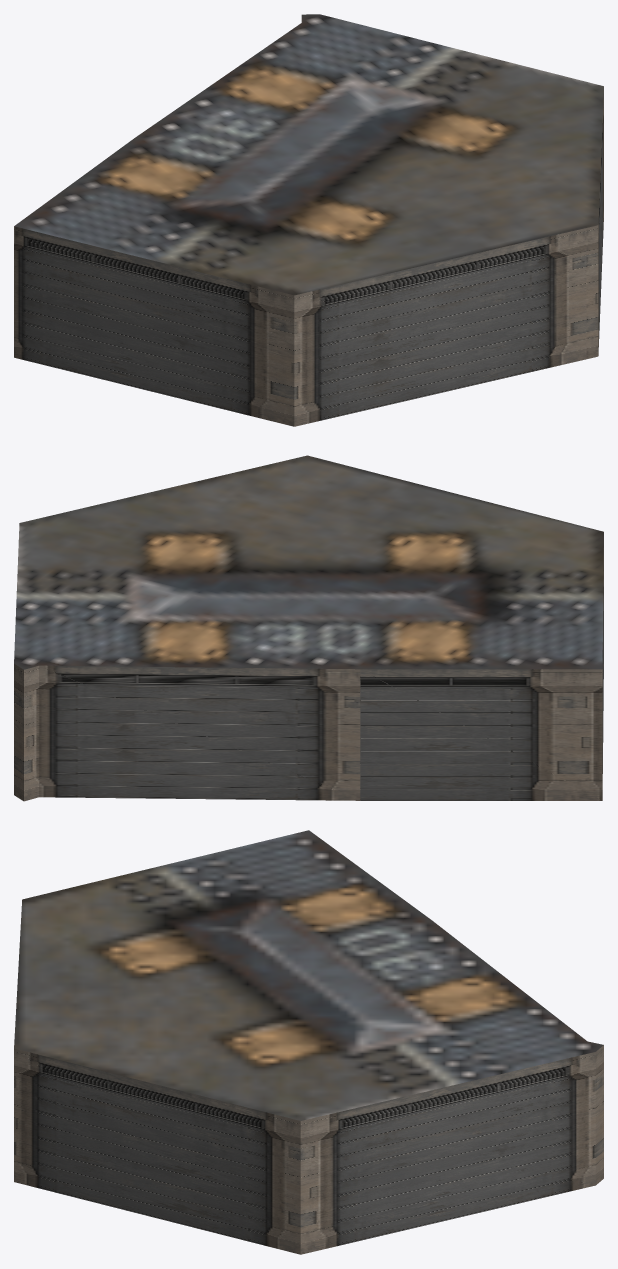
File: hangar_hard_a_30.glb
The picture shows the model from 3 angles, top to bottom: view 1: azimuth 30°, elevation 25°; view 2: azimuth 150°, elevation 25°; view 3: azimuth 270°, elevation 25°; orthographic projection.
Parts seen in each view (by area): view 1: buildings/saxarba/hangar_hard/hangar_hard_a_30; view 2: buildings/saxarba/hangar_hard/hangar_hard_a_30; view 3: buildings/saxarba/hangar_hard/hangar_hard_a_30.
Part boxes in pixels (x1=…): buildings/saxarba/hangar_hard/hangar_hard_a_30: x1=14, y1=14, x2=603, y2=426; buildings/saxarba/hangar_hard/hangar_hard_a_30: x1=14, y1=455, x2=603, y2=801; buildings/saxarba/hangar_hard/hangar_hard_a_30: x1=14, y1=830, x2=603, y2=1254.
Bounding box in the file's own units: 84 × 18 × 72.
